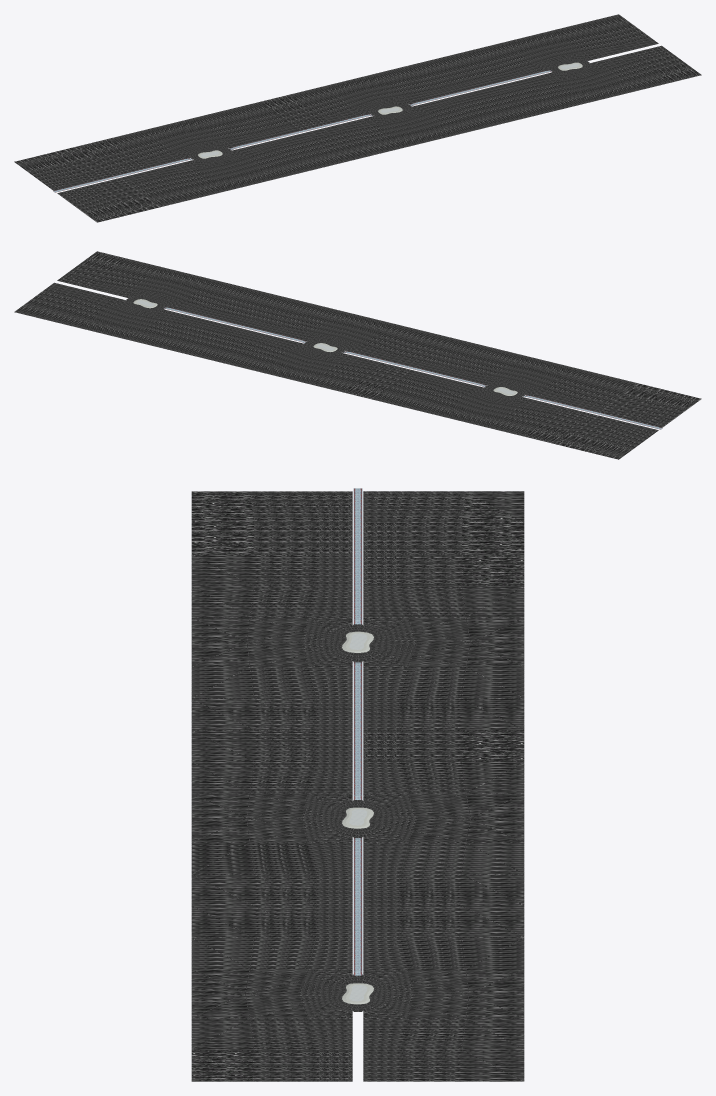
File: Egg_treat4.obj
3 renders of one model, top to bottom at view 1: azimuth 30°, elevation 25°; view 2: azimuth 150°, elevation 25°; view 3: azimuth 270°, elevation 25°, orthographic. The views are drawn at different scales.
Parts seen in each view (by area): view 1: obj3, obj1; view 2: obj3, obj1; view 3: obj3, obj1.
Boxes of the visible parts, <box> form: obj3: <box>14,14,701,222</box>; obj1: <box>53,62,582,192</box>; obj3: <box>14,251,701,459</box>; obj1: <box>133,299,662,429</box>; obj3: <box>191,491,524,1081</box>; obj1: <box>342,488,373,1004</box>.
Size of the model in its own units: 16845 by 25 by 4000.
